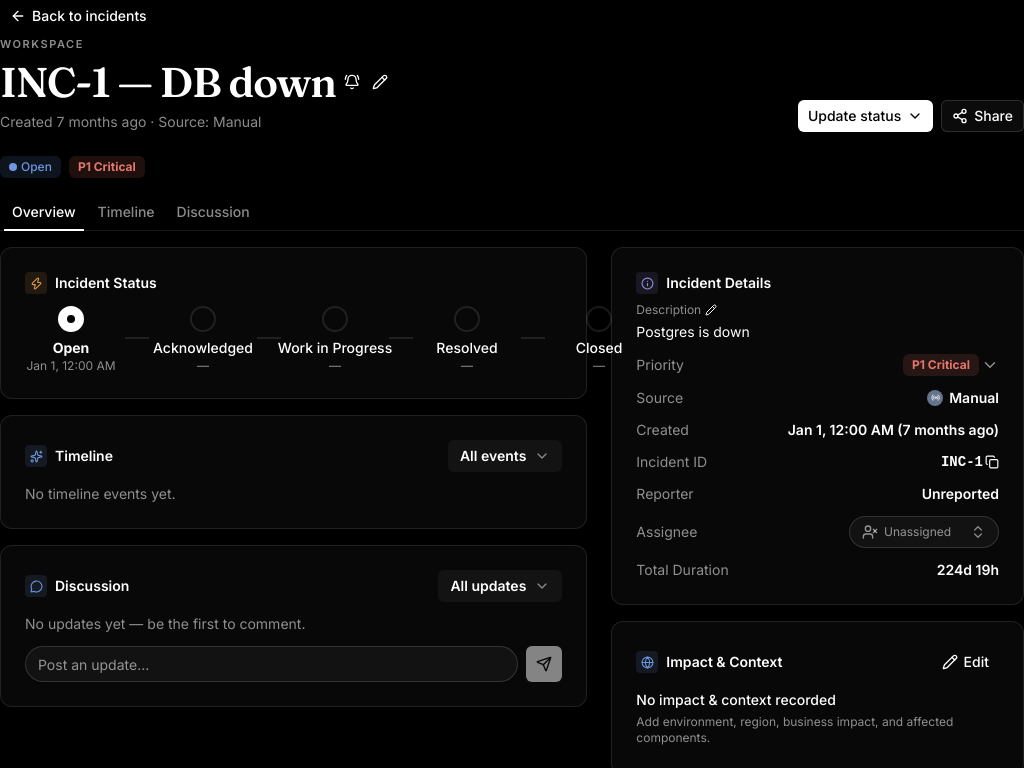
Test: IncidentDetailPage — status transitions › opens the resolve dialog when selecting Resolved
Click the button "Update status" at (866, 116), box [798, 100, 933, 132]
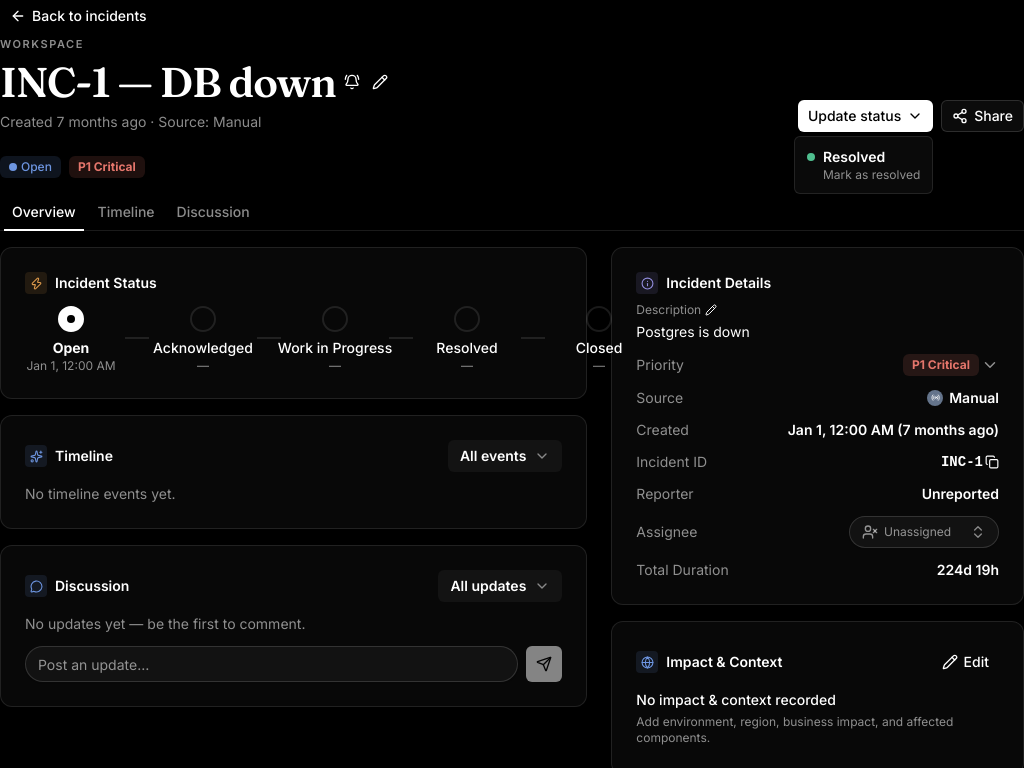
Click the 1st text "Resolved" at (854, 156), box [823, 148, 885, 165]
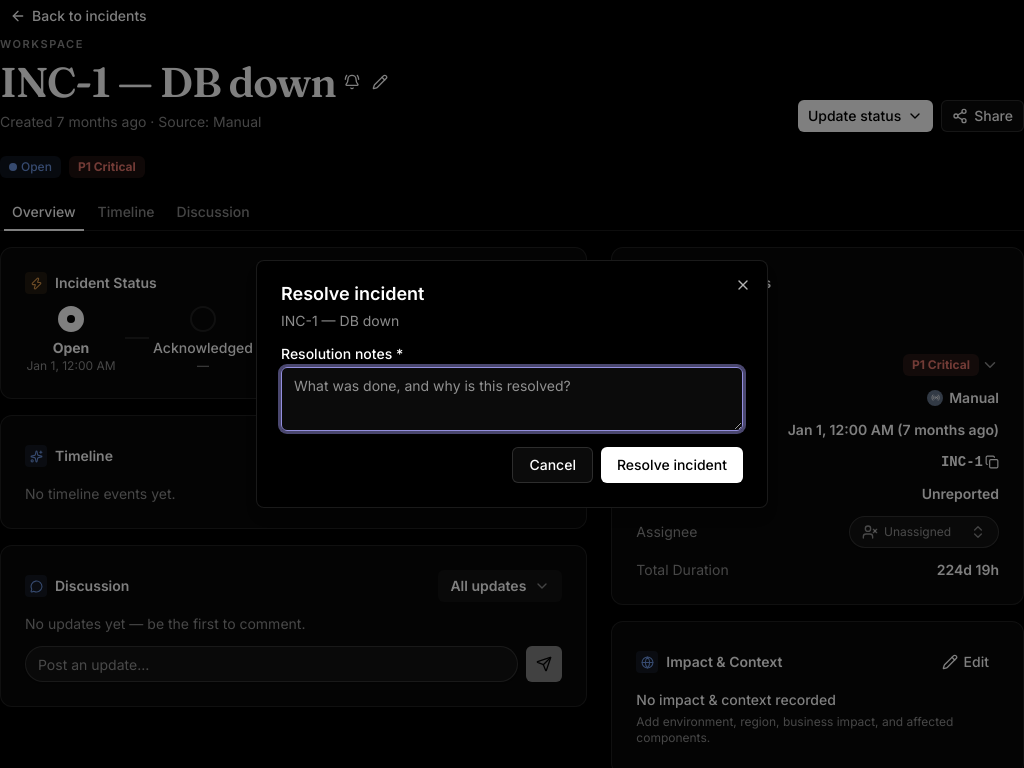
Result: the dialog is shown at [256, 260, 768, 508]
